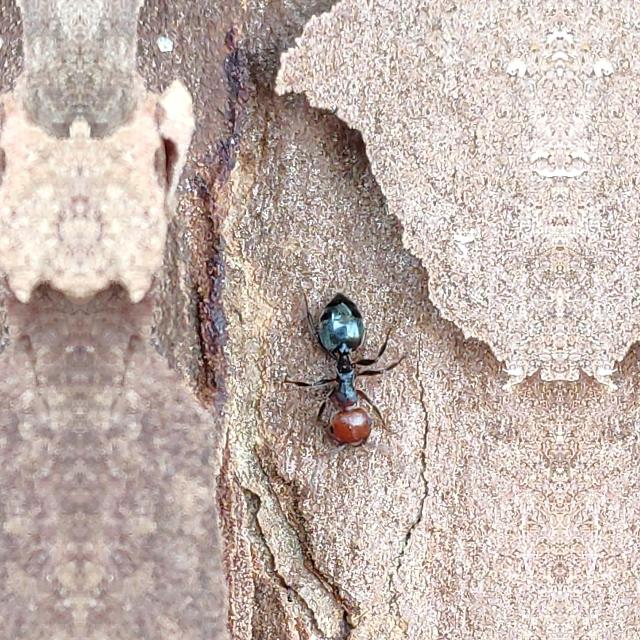Crematogaster: (298, 288, 402, 444)
